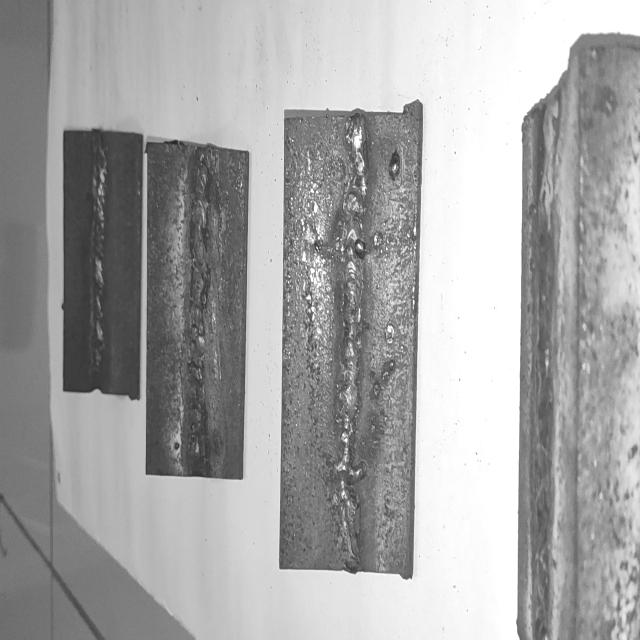Good Weld: (340, 116, 368, 572), (186, 150, 212, 469), (87, 134, 104, 389)
